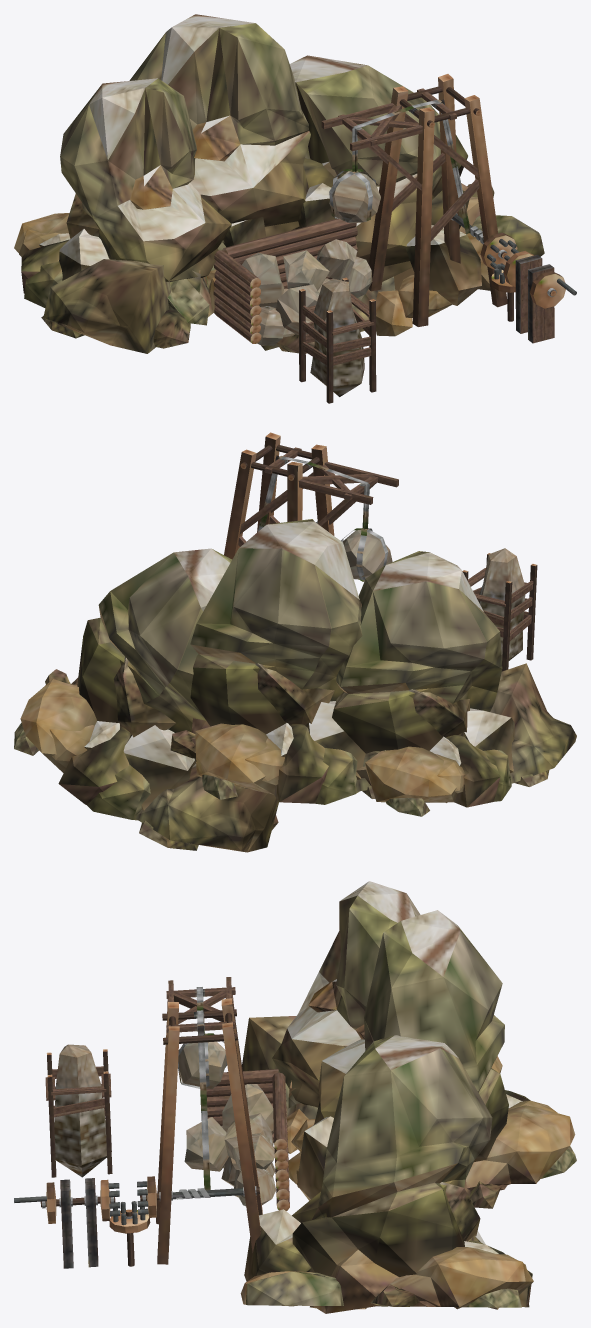
File: mine_stone.fbx
3 renders of one model, top to bottom at view 1: azimuth 30°, elevation 25°; view 2: azimuth 150°, elevation 25°; view 3: azimuth 270°, elevation 25°, orthographic. The views are drawn at different scales.
Parts seen in each view (by area): view 1: polySurface1; view 2: polySurface1; view 3: polySurface1.
Boxes of the visible parts, left/top/right/bottom form: polySurface1: left=14, top=14, right=576, bottom=403; polySurface1: left=14, top=432, right=576, bottom=852; polySurface1: left=14, top=881, right=576, bottom=1313.
Bounding box in the file's own units: 1318 × 881 × 1255.
Materials: 3 (3 with a texture image).
